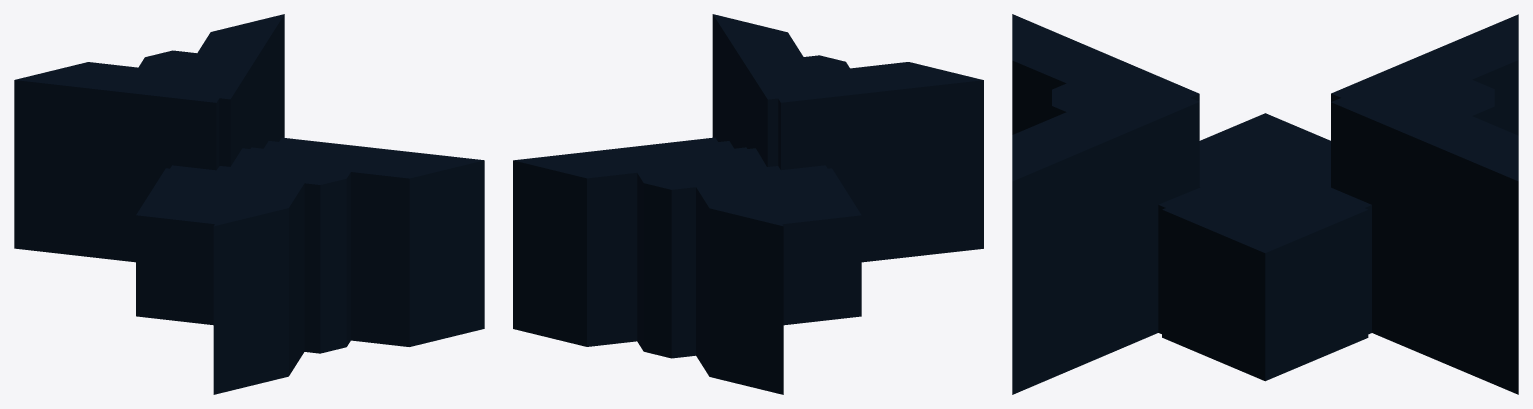
Rendered from main.glb.
The picture shows the model from 3 angles, left to right: view 1: azimuth 30°, elevation 25°; view 2: azimuth 150°, elevation 25°; view 3: azimuth 270°, elevation 25°; orthographic projection. The views are drawn at different scales.
Visible parts, largest first — view 1: B??, A??, C??; view 2: A??, B??, C??; view 3: A??, B??, C??.
Boxes of the visible parts, x1,y1,x2,y2 form: B??: (213, 137, 484, 394); A??: (14, 14, 284, 262); C??: (136, 147, 263, 325); A??: (513, 137, 783, 394); B??: (712, 14, 983, 262); C??: (734, 147, 861, 325); A??: (1331, 14, 1518, 394); B??: (1012, 14, 1199, 394); C??: (1158, 113, 1371, 381).
Size of the model in its own units: 5.05 by 3 by 6.45.
